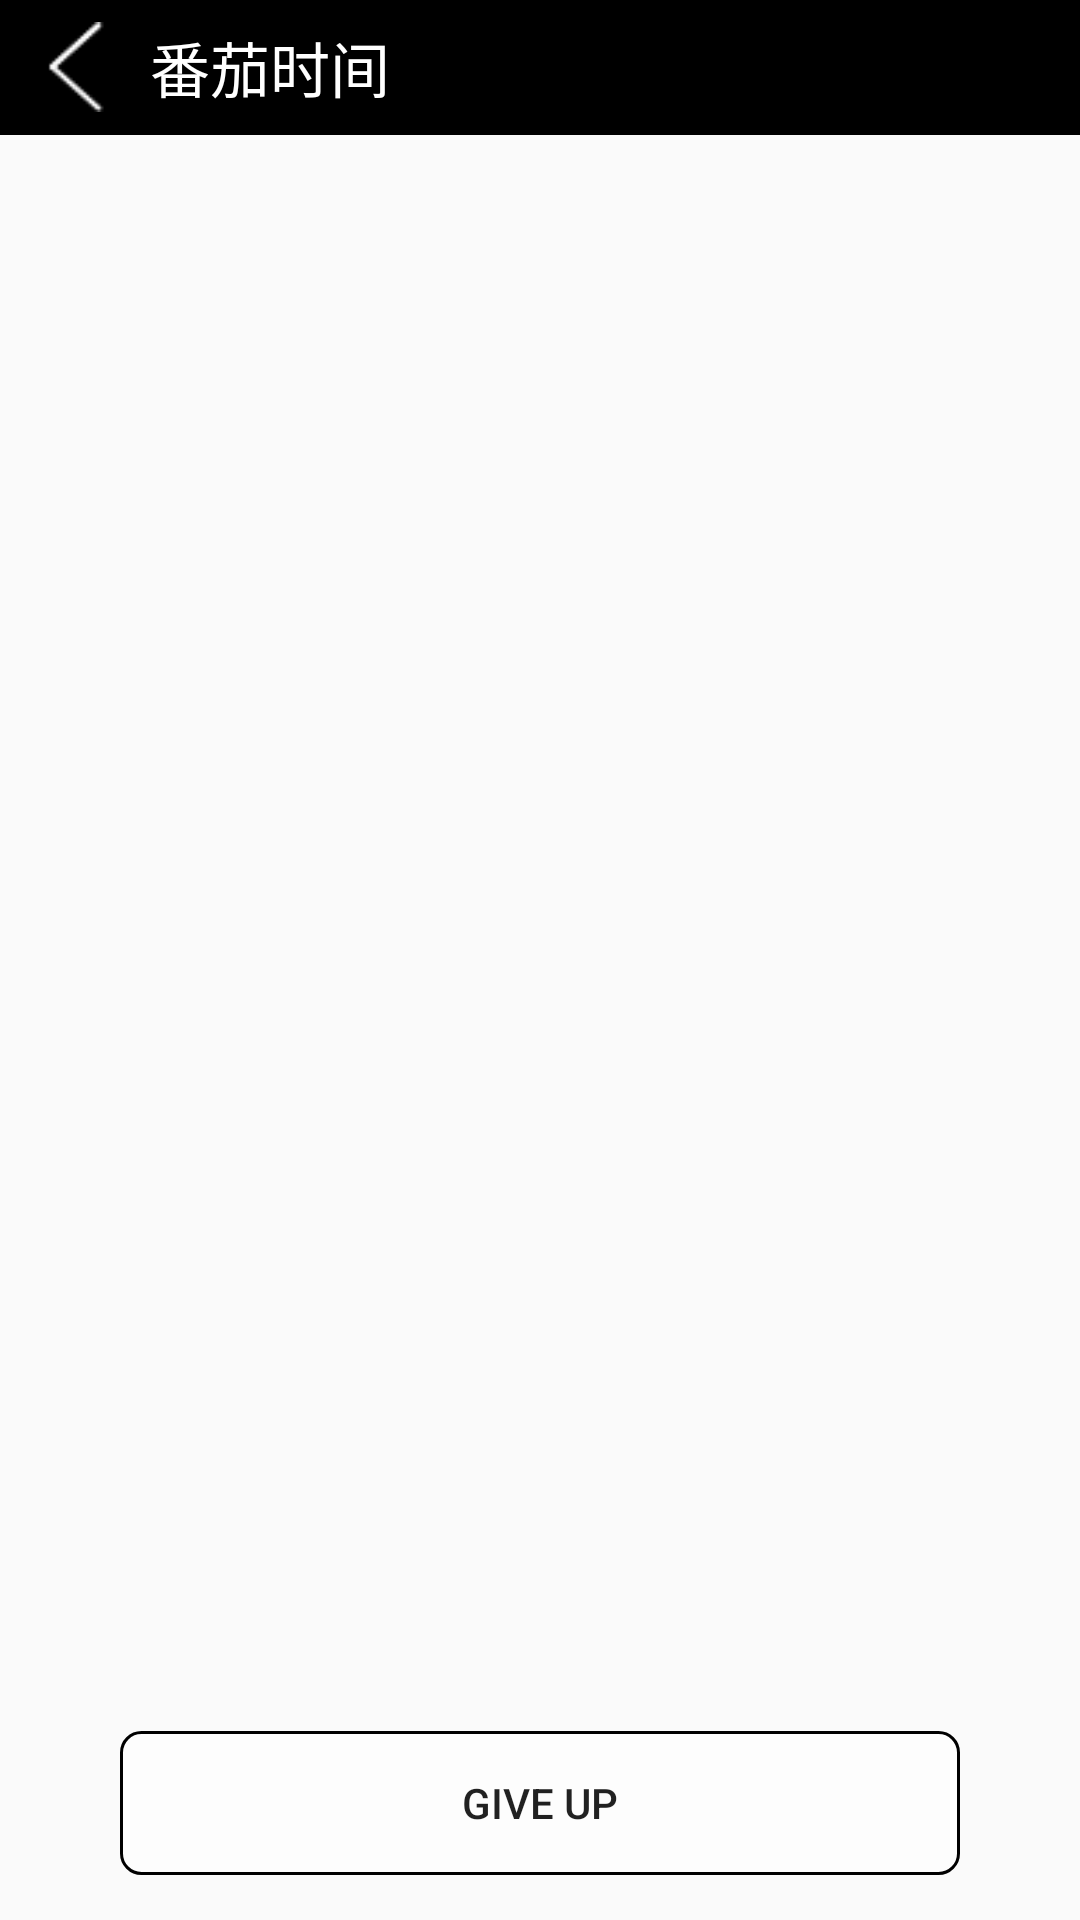

Point at icon controls on the screen. Image size 1080*1920, points as [x,y].
left: [76,67]
